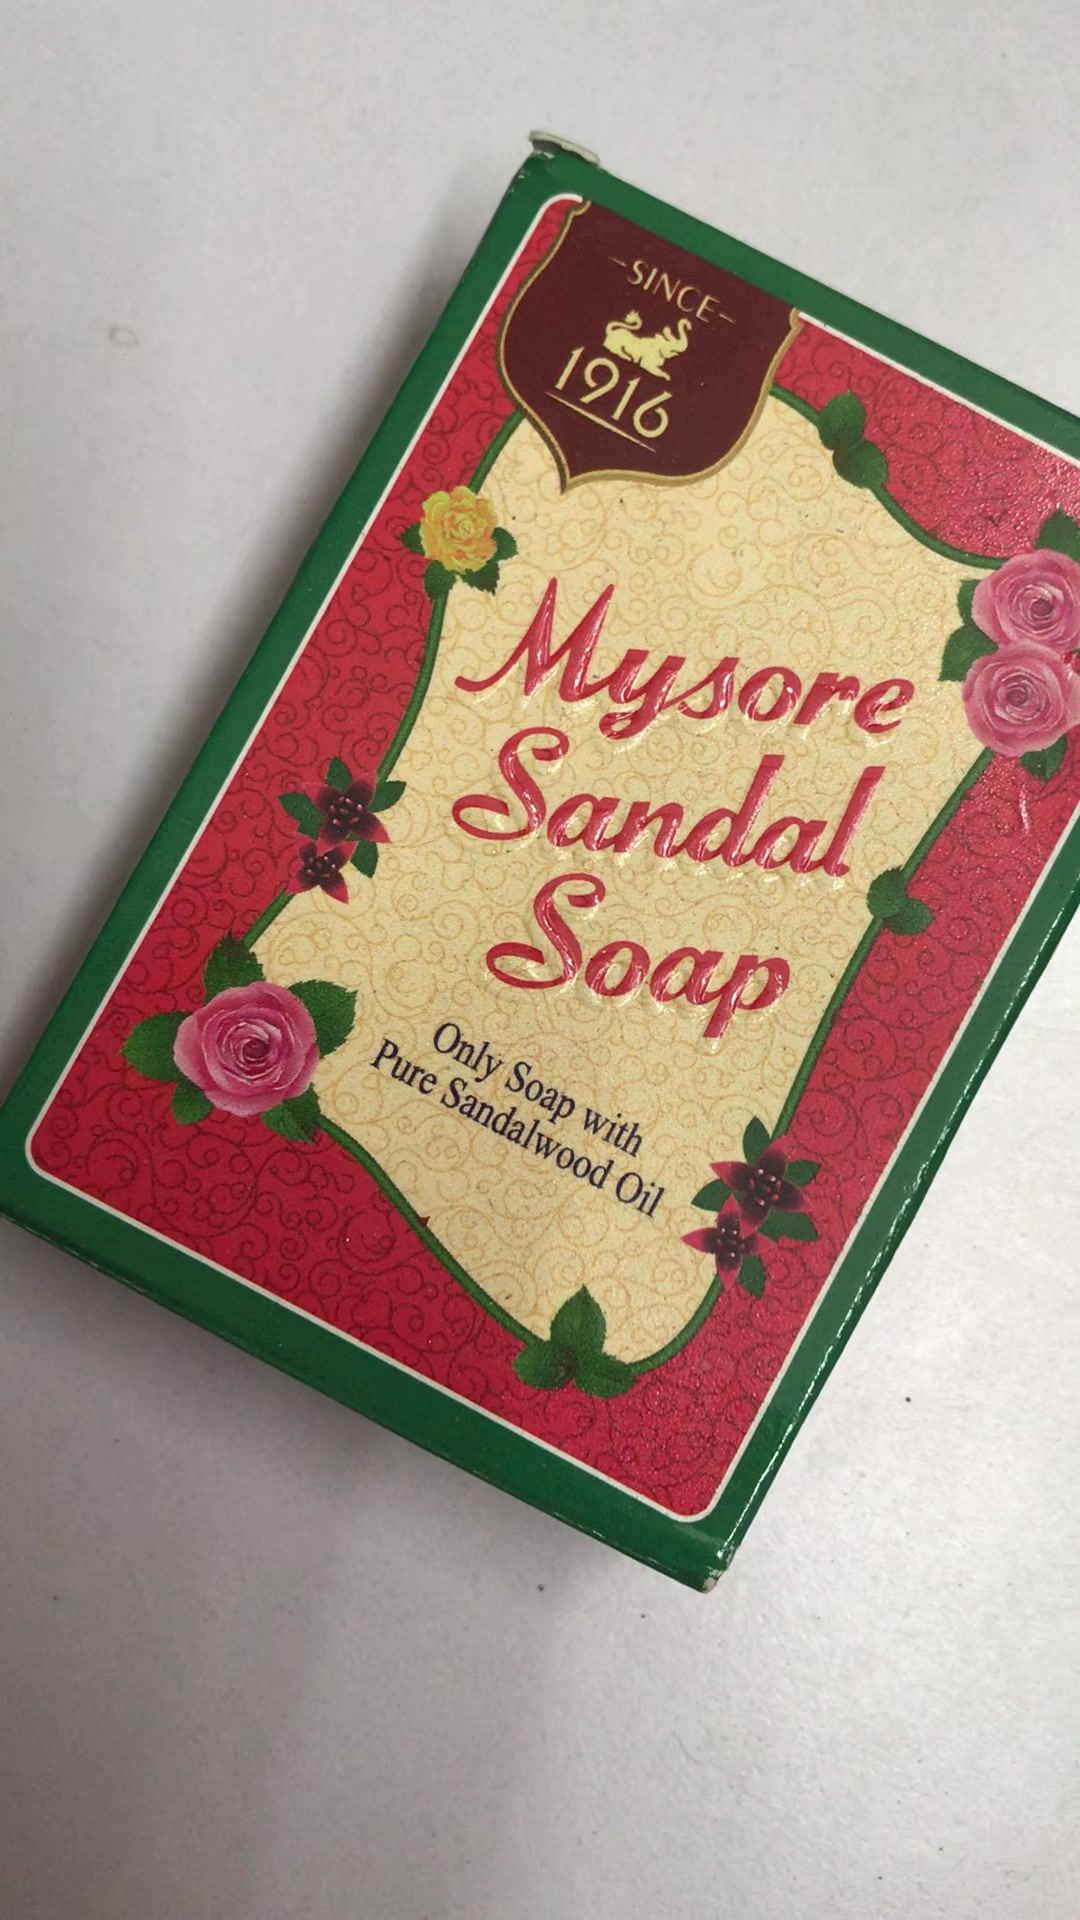mysore sandal soap: (7, 131, 1080, 1585)
